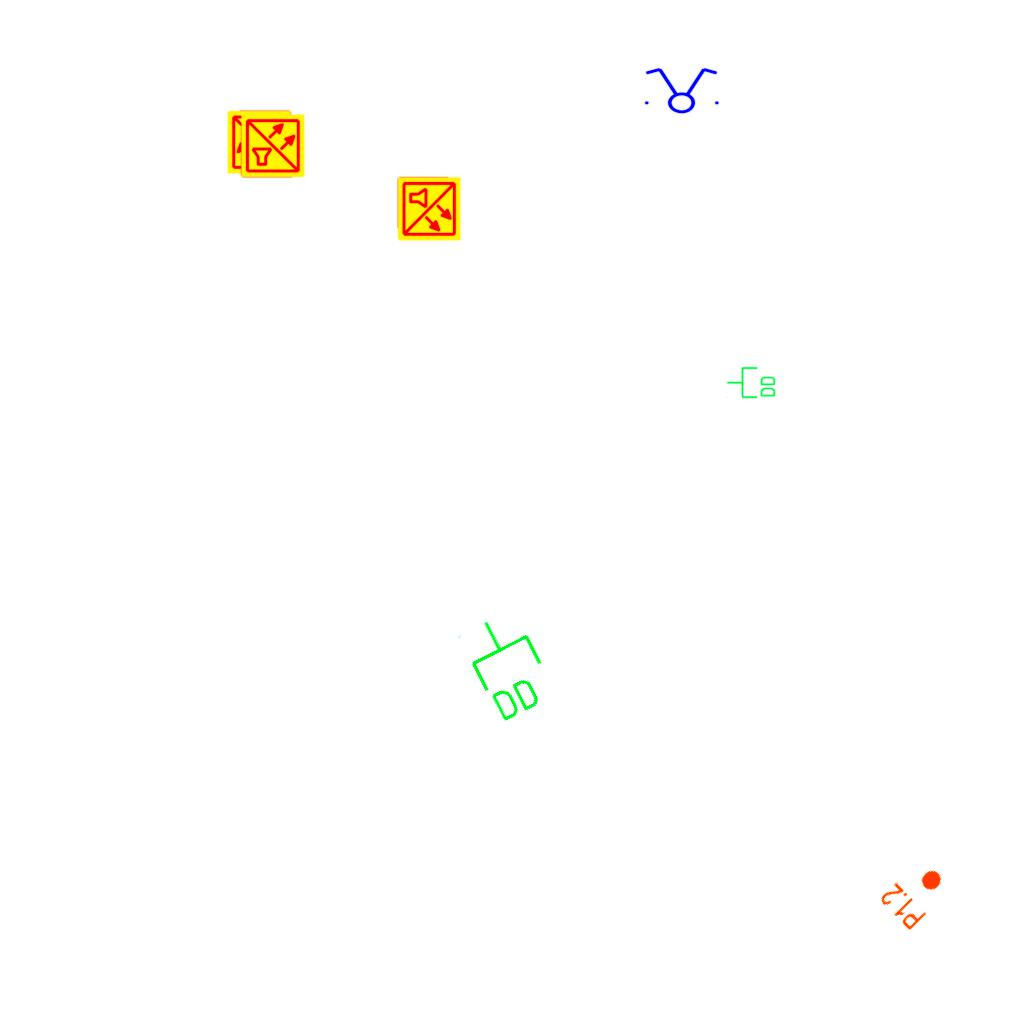Datenanschluss_zweifach: (453, 604, 562, 729), (726, 366, 777, 400)
Downlight_LED_Einbauleuchten_Flur: (877, 855, 955, 933)
OKW_Multisensormelder_(Kombination_optischer_Rauch-Kahlenmonoxid_Waerme-Melder): (226, 109, 292, 175), (396, 176, 462, 242), (240, 113, 306, 179)
Serienschalter: (639, 66, 723, 114)
